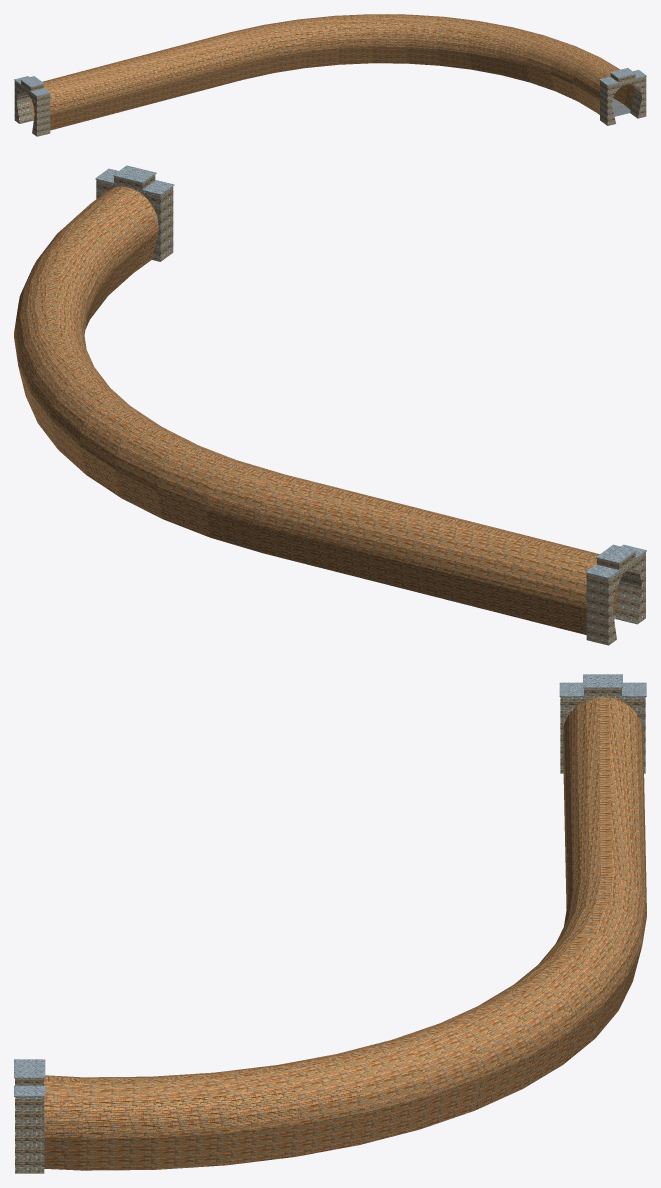
File: GMLID_BUI180021_673_14143.dae
3 renders of one model, top to bottom at view 1: azimuth 30°, elevation 25°; view 2: azimuth 150°, elevation 25°; view 3: azimuth 270°, elevation 25°, orthographic. The views are drawn at different scales.
Bounding box in the file's own units: 130 × 80.32 × 15.12.
4 materials, 4 textured.
